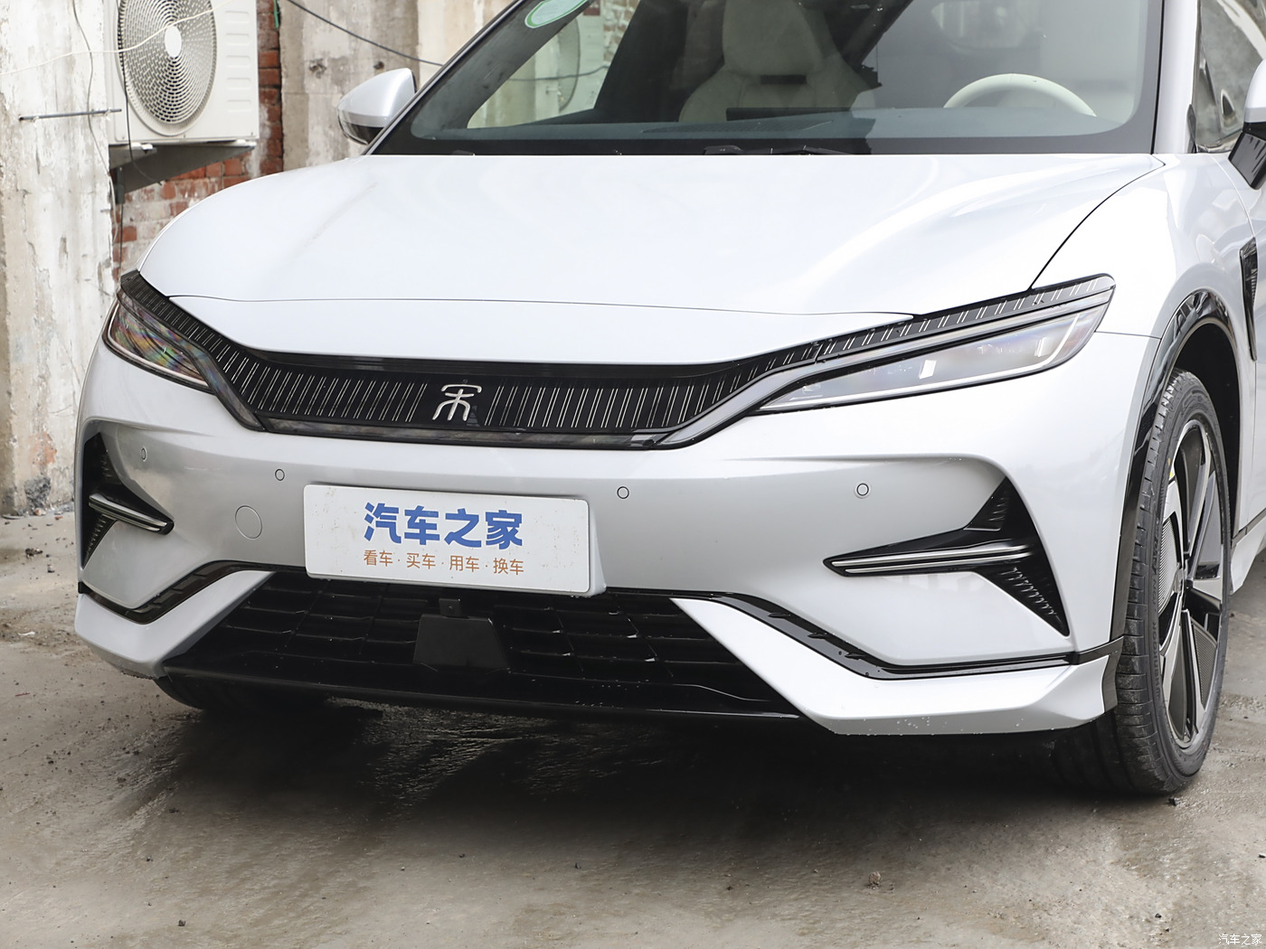BYD Song: (433, 379, 481, 420)
